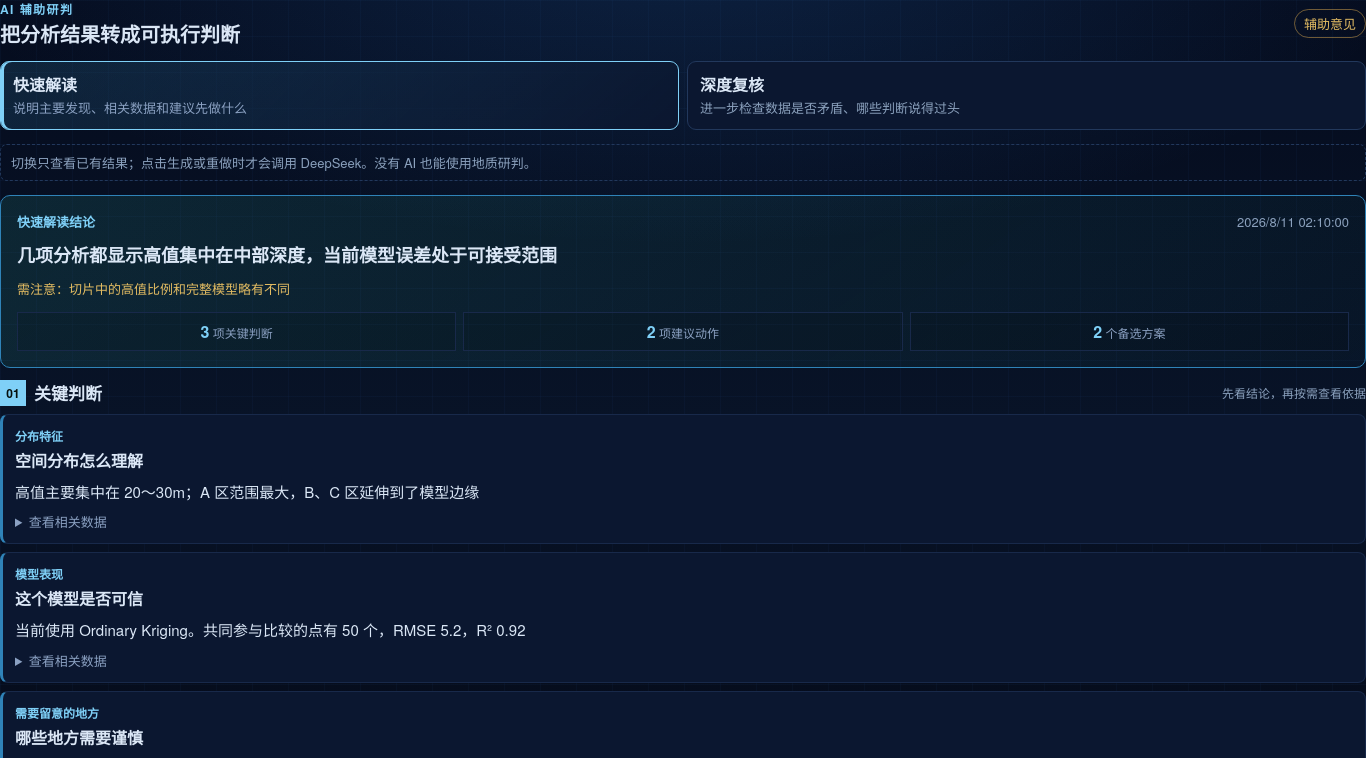
Test case: AIAssistedReview › 切换模式按模式读取记录，不混用快速解读内容，也不自动触发付费生成
Click the button with test id "ai-mode-review".
click(732, 86)  # box [687,61,1365,130]
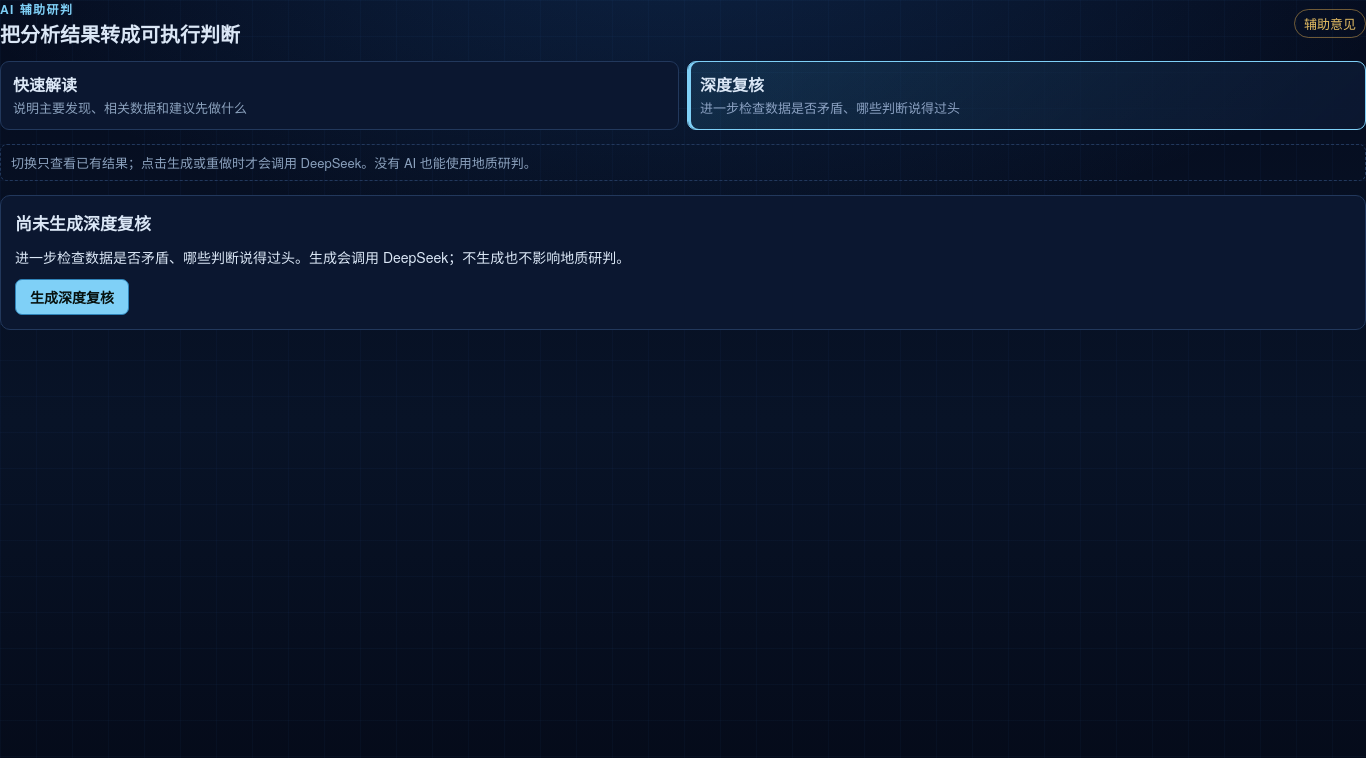
Check: the element with test id "ai-empty" shows "尚未生成深度复核", box [15,211,151,235]
